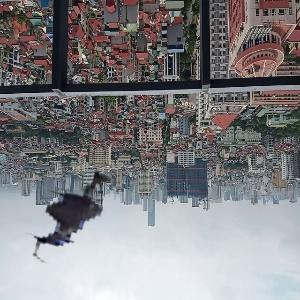drone: (20, 143, 166, 289)
